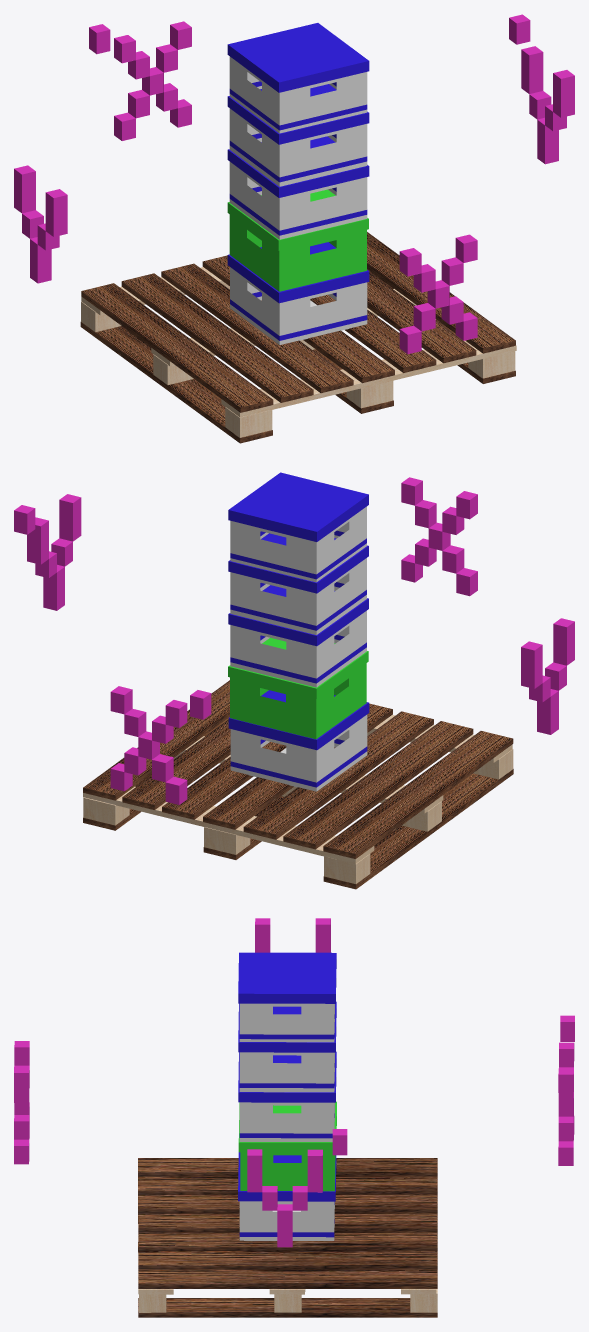
File: caja222.gltf
3 renders of one model, top to bottom at view 1: azimuth 30°, elevation 25°; view 2: azimuth 150°, elevation 25°; view 3: azimuth 270°, elevation 25°, orthographic. The views are drawn at different scales.
Visible parts, largest first — view 1: CajaVerde, Cube.040_1, Cube045, Cube046, Cube.019_0, Cube048, Cube.009_0, Cube.011_0, Cube.040_0, Cube043, Cube005, Cube040 (+17 smaller); view 2: CajaVerde, Cube.040_1, Cube045, Cube046, Cube.009_0, Cube.019_0, Cube048, Cube.011_0, Cube.040_0, Cube005, Cube043, Cube066 (+17 smaller); view 3: Cube044, Cube049, Cube.040_1, Cube055, Cube050, Cube047, Cube048, Cube046, Cube045, CajaVerde, Cube.019_0, Cube.011_0 (+12 smaller).
Boxes of the visible parts, x1,y1,x2,y2 form: CajaVerde: (227, 189, 368, 291); Cube.040_1: (227, 23, 369, 130); Cube045: (121, 273, 313, 402); Cube046: (81, 283, 273, 412); Cube.019_0: (229, 108, 367, 186); Cube048: (161, 263, 353, 393); Cube.009_0: (230, 267, 367, 344); Cube.011_0: (229, 162, 367, 239); Cube.040_0: (229, 56, 367, 133); Cube043: (399, 234, 477, 354); Cube005: (114, 21, 191, 140); Cube040: (521, 46, 574, 164); CajaVerde: (228, 637, 368, 739); Cube.040_1: (228, 472, 368, 579); Cube045: (283, 721, 473, 849); Cube046: (323, 731, 513, 858); Cube.009_0: (230, 714, 367, 791); Cube.019_0: (230, 558, 366, 634); Cube048: (243, 711, 433, 839); Cube.011_0: (230, 610, 366, 687); Cube.040_0: (230, 506, 366, 582); Cube005: (110, 686, 187, 804); Cube043: (401, 477, 477, 596); Cube066: (521, 618, 574, 734); Cube044: (138, 1269, 437, 1288); Cube049: (138, 1251, 437, 1269); Cube.040_1: (238, 952, 336, 1039); Cube055: (138, 1298, 437, 1317); Cube050: (138, 1232, 437, 1250); Cube047: (138, 1213, 437, 1232); Cube048: (138, 1194, 437, 1213); Cube046: (138, 1158, 437, 1176); Cube045: (138, 1176, 437, 1194); CajaVerde: (238, 1101, 336, 1191); Cube.019_0: (239, 1052, 334, 1092); Cube.011_0: (239, 1102, 334, 1141).
Bounding box in the file's own units: 4.23 × 2.33 × 4.22.
12 materials, 2 textured.
